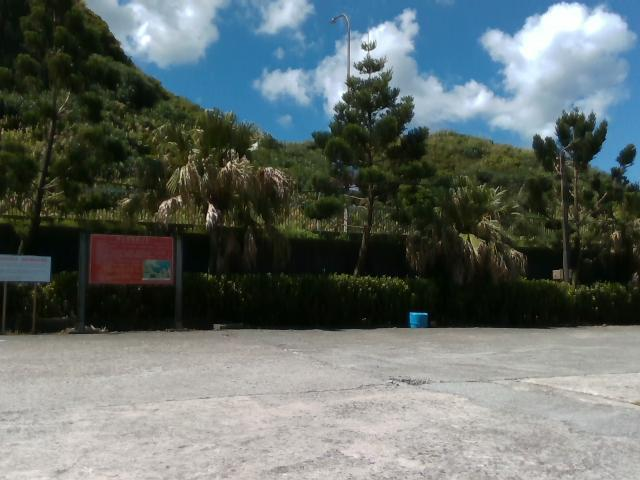pollute: (407, 311, 429, 330)
